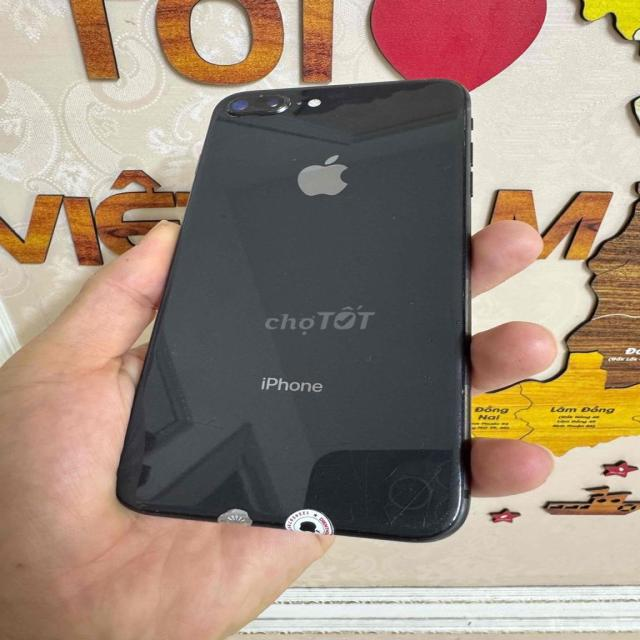scratch: (369, 449, 467, 538), (210, 86, 365, 117)
